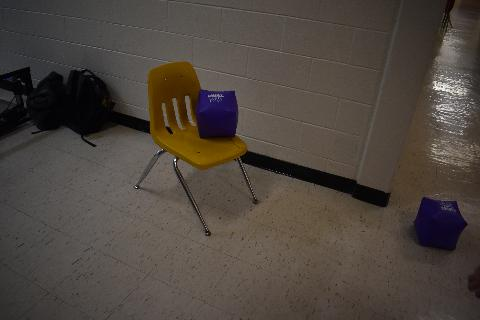cube: (412, 196, 468, 252), (195, 89, 239, 139)
